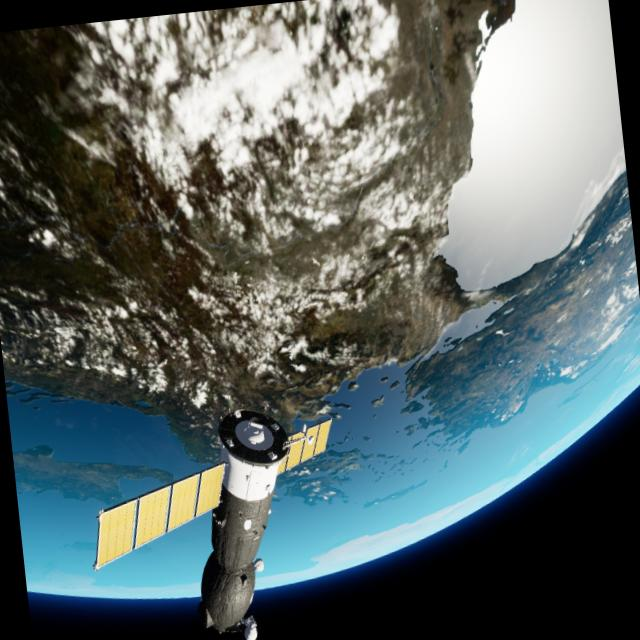Satellites revolving around earth: (76, 395, 355, 640)
